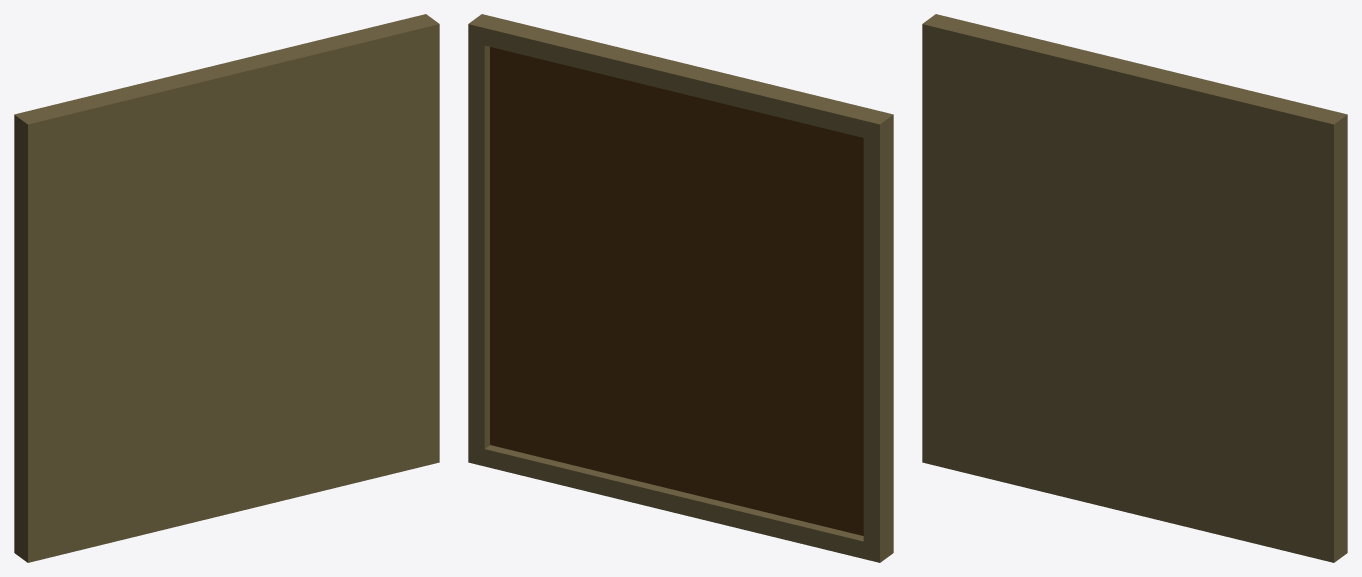
The model's file is corcho.fbx.
3 views of the same model, side by side, from view 1: azimuth 30°, elevation 25°; view 2: azimuth 150°, elevation 25°; view 3: azimuth 330°, elevation 25° (orthographic).
Parts seen in each view (by area): view 1: Tablon; view 2: Tablon; view 3: Tablon.
Boxes of the visible parts, left/top/right/bottom form: Tablon: left=14, top=14, right=439, bottom=562; Tablon: left=468, top=14, right=893, bottom=562; Tablon: left=922, top=14, right=1347, bottom=562.
Bounding box in the file's own units: 770 × 783 × 44.54.
